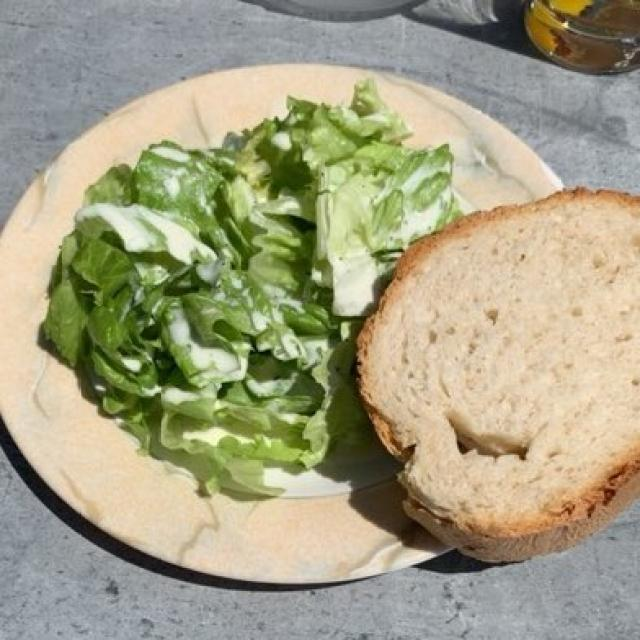bread: (363, 204, 634, 554)
salad: (48, 96, 451, 497)
